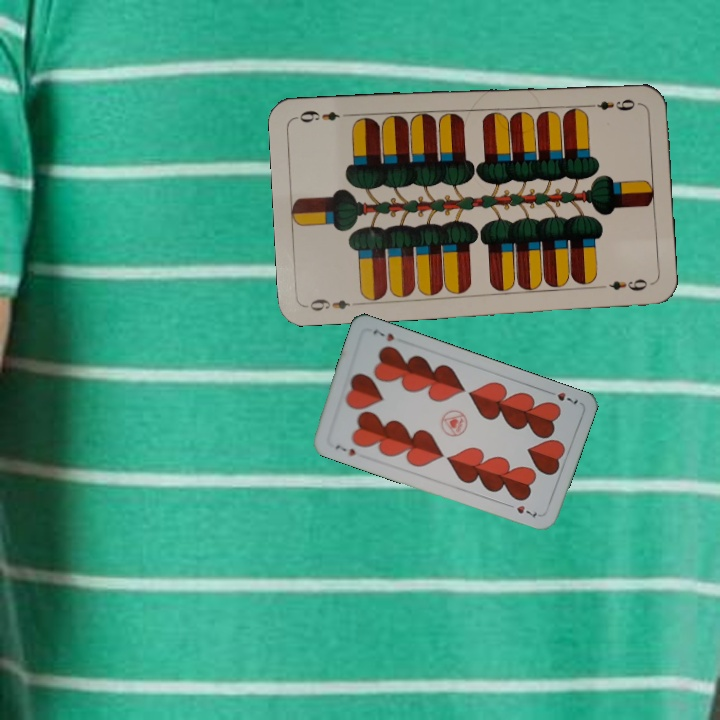E9: (583, 95, 642, 114), (305, 294, 353, 314)
H7: (543, 386, 581, 407), (331, 441, 358, 459)
